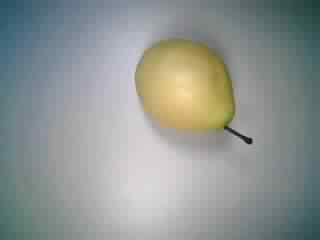pear: (126, 33, 261, 150)
